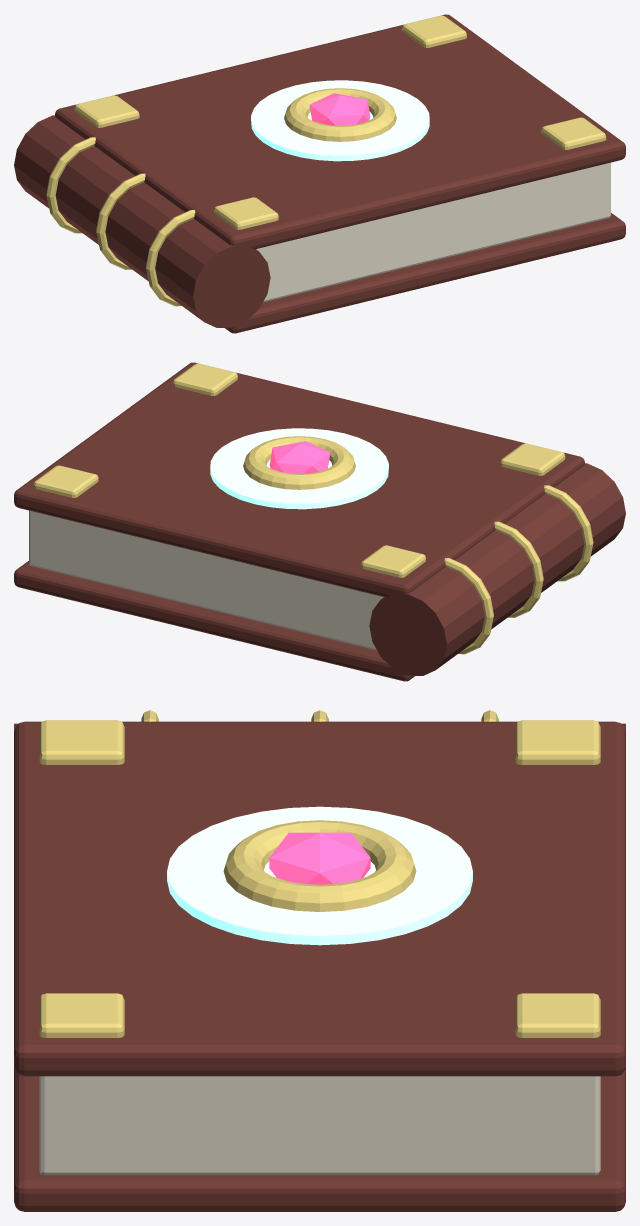
File: grimoire.glb
The picture shows the model from 3 angles, top to bottom: view 1: azimuth 30°, elevation 25°; view 2: azimuth 150°, elevation 25°; view 3: azimuth 270°, elevation 25°; orthographic projection. The views are drawn at different scales.
Visible parts, largest first — view 1: FrontCover, BookSpine, PagesBlock, BackCover, RunicCircle, KeyBow, CenterGem, Corner_0.19_-0.14, Corner_-0.19_0.14, Corner_0.19_0.14, Corner_-0.19_-0.14, SpineRib_2 (+2 smaller); view 2: FrontCover, BookSpine, PagesBlock, BackCover, RunicCircle, KeyBow, CenterGem, Corner_0.19_0.14, Corner_-0.19_-0.14, Corner_0.19_-0.14, Corner_-0.19_0.14, SpineRib_0 (+2 smaller); view 3: FrontCover, PagesBlock, BackCover, RunicCircle, KeyBow, CenterGem, Corner_0.19_0.14, Corner_0.19_-0.14, Corner_-0.19_0.14, Corner_-0.19_-0.14.
Part boxes in pixels (x1,y1,x2,y2): FrontCover: (55,14,625,250); BookSpine: (14,115,270,327); PagesBlock: (256,162,610,302); BackCover: (224,213,625,333); RunicCircle: (251,80,429,161); KeyBow: (284,88,396,141); CenterGem: (309,93,370,125); Corner_0.19_-0.14: (541,117,606,149); Corner_-0.19_0.14: (74,95,139,127); Corner_0.19_0.14: (402,15,466,47); Corner_-0.19_-0.14: (214,197,278,229); SpineRib_2: (46,137,95,233); FrontCover: (14,362,584,598); BookSpine: (369,463,625,675); PagesBlock: (29,510,383,650); BackCover: (14,561,415,681); RunicCircle: (210,428,388,509); KeyBow: (243,436,355,489); CenterGem: (269,441,330,473); Corner_0.19_0.14: (33,465,98,497); Corner_-0.19_-0.14: (500,443,565,475); Corner_0.19_-0.14: (173,363,237,395); Corner_-0.19_0.14: (361,545,425,577); SpineRib_0: (544,485,593,581); FrontCover: (14,721,625,1076); PagesBlock: (39,1076,600,1175); BackCover: (14,1067,625,1211); RunicCircle: (167,806,472,945); KeyBow: (223,820,416,911); CenterGem: (269,832,370,884); Corner_0.19_0.14: (515,993,600,1037); Corner_0.19_-0.14: (39,993,124,1037); Corner_-0.19_0.14: (515,720,600,764); Corner_-0.19_-0.14: (39,720,124,764).
Bounding box in the file's own units: 0.513 × 0.156 × 0.36.
